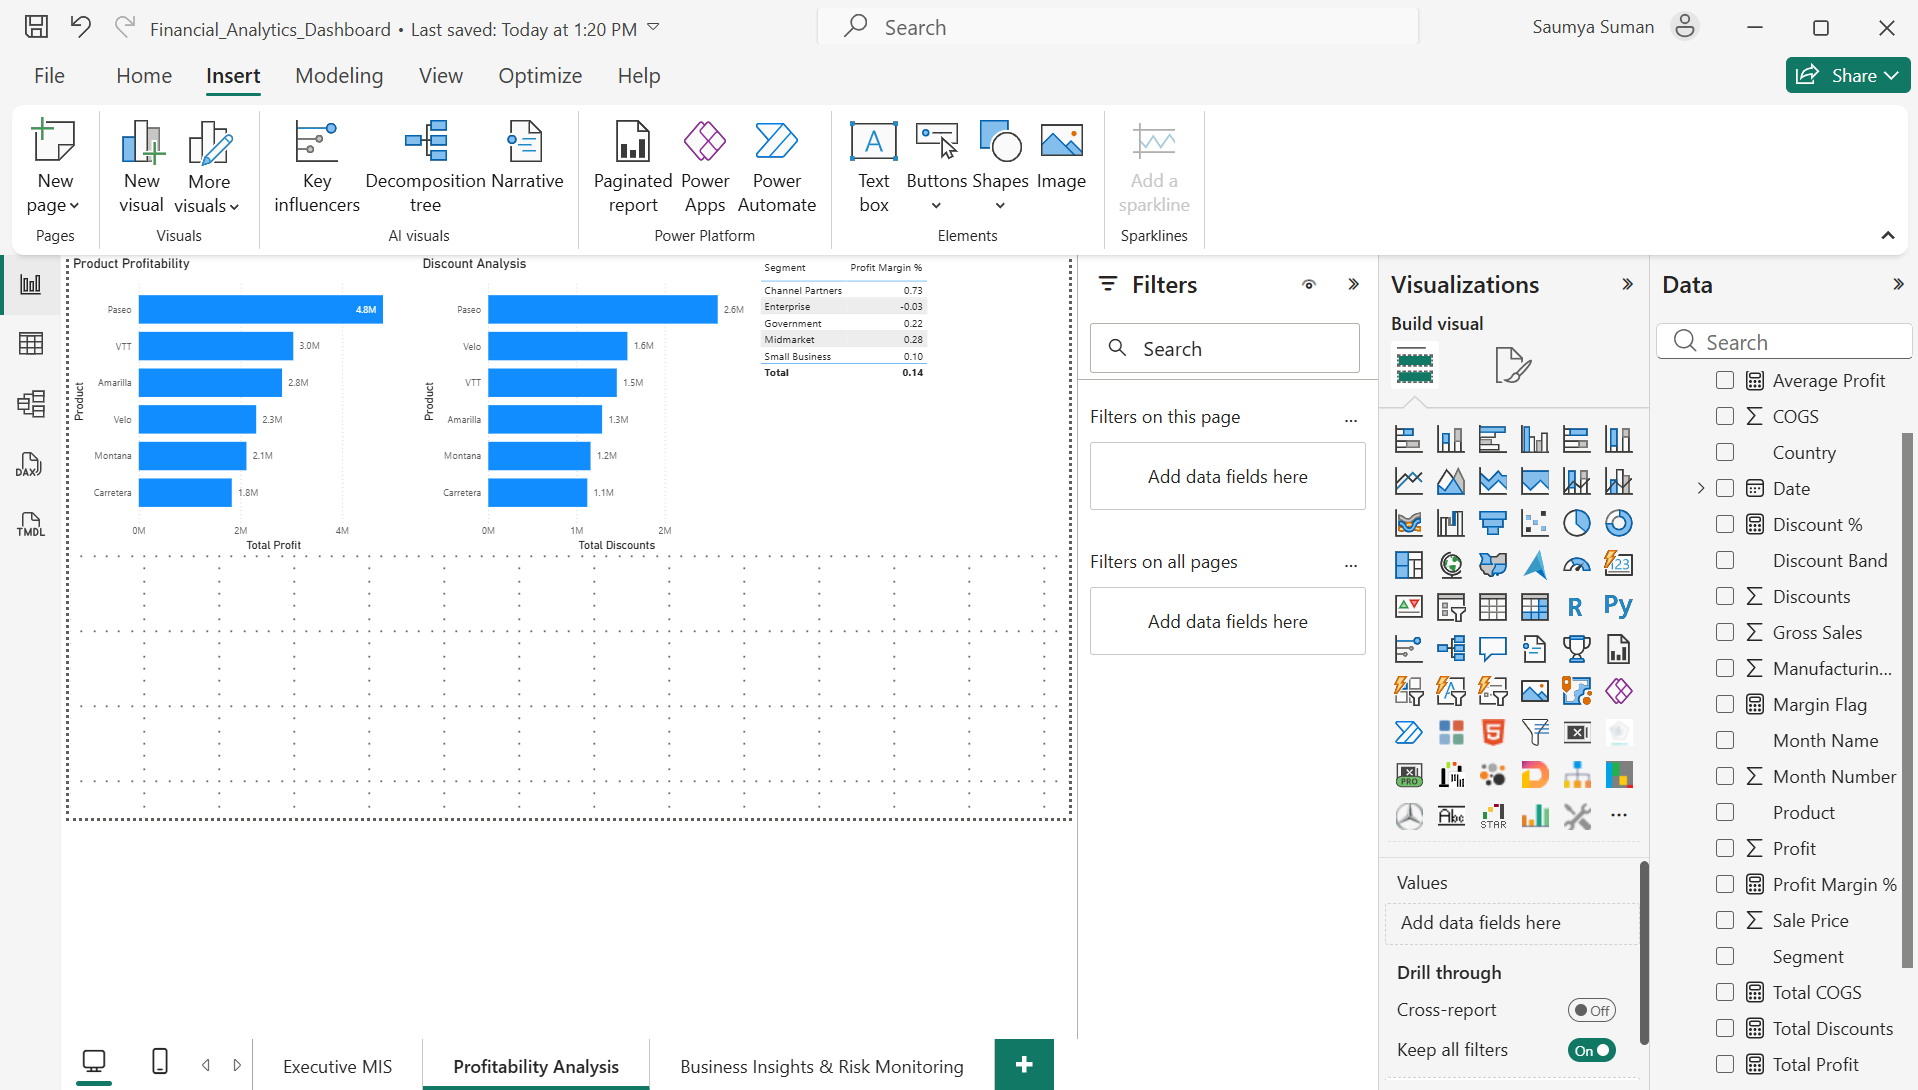

Layout of this report page (visuals, bound fields, positions):
{"tool":"powerbi","page":{"name":"Profitability Analysis","canvas":[1280,720],"ordinal":1},"visuals":[{"type":"barChart","title":"Product Profitability","fields":{"Category":["financials.Product"],"Y":["financials.Total Profit"]},"box":[0,0,448,384],"z":0},{"type":"barChart","title":"Discount Analysis","fields":{"Category":["financials.Product"],"Y":["financials.Total Discounts"]},"box":[448,0,432,384],"z":1},{"type":"tableEx","fields":{"Values":["financials.Segment","financials.Profit Margin %"]},"box":[880,0,400,384],"z":3}]}

Visuals, with their boxes on the page's 1280x720 design canvas (x1, y1, x2, y2). These are canvas units, not pixel positions in the 1918x1090 screenshot, which may show the page scaled, cropped or inside an application window:
"Product Profitability" barChart: {"left": 0, "top": 0, "right": 448, "bottom": 384}
"Discount Analysis" barChart: {"left": 448, "top": 0, "right": 880, "bottom": 384}
tableEx - financials.Segment x financials.Profit Margin %: {"left": 880, "top": 0, "right": 1280, "bottom": 384}
